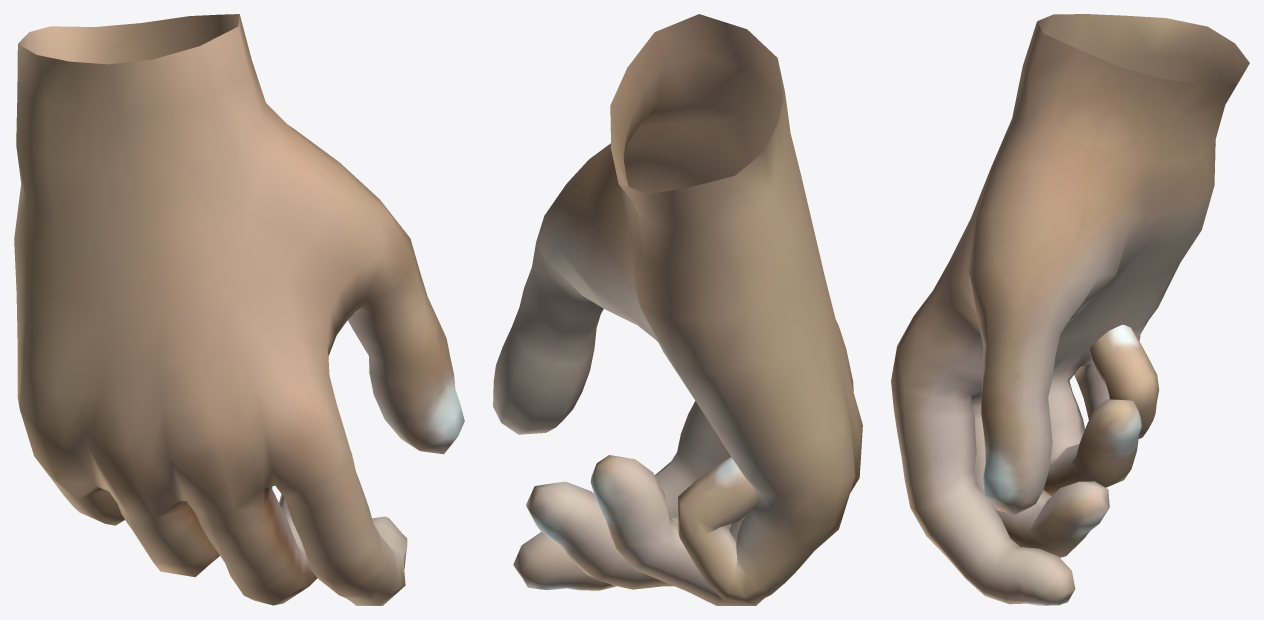
Rendered from male_hand_a.glb.
3 renders of one model, left to right at view 1: azimuth 30°, elevation 25°; view 2: azimuth 150°, elevation 25°; view 3: azimuth 270°, elevation 25°, orthographic. The views are drawn at different scales.
Visible parts, largest first — view 1: StaticMeshDemo.002; view 2: StaticMeshDemo.002; view 3: StaticMeshDemo.002.
Boxes of the visible parts, left/top/right/bottom form: StaticMeshDemo.002: left=14, top=14, right=464, bottom=605; StaticMeshDemo.002: left=493, top=14, right=862, bottom=605; StaticMeshDemo.002: left=891, top=14, right=1249, bottom=605.
Bounding box in the file's own units: 0.1381 × 0.2022 × 0.1273.
Materials: 1 (1 with a texture image).
